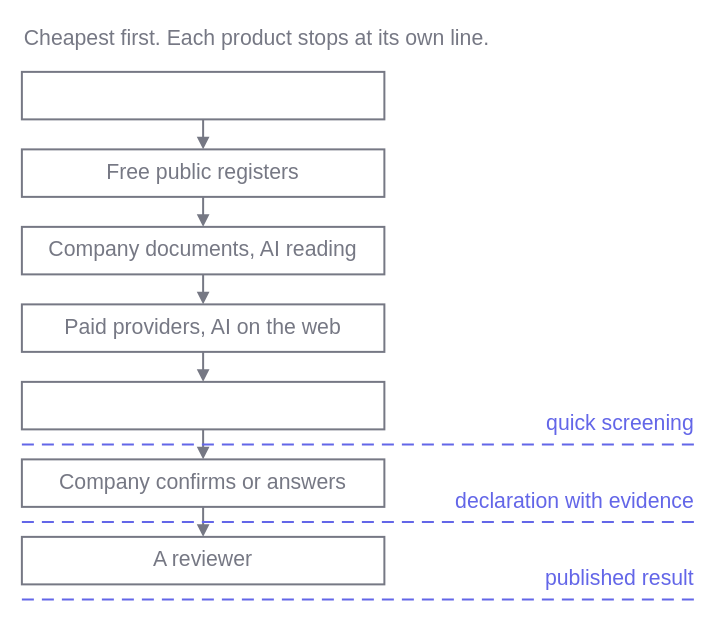
Some shapes in this 721 by 623 pixel diagram are drawn without their labels. The shapes that lost their labels are listed below. From the top down, each one's box as (x1, y1, x2, y2) in pixels, then its label:
(20, 70, 385, 120): Graph and stored records
(20, 380, 385, 430): Estimators
